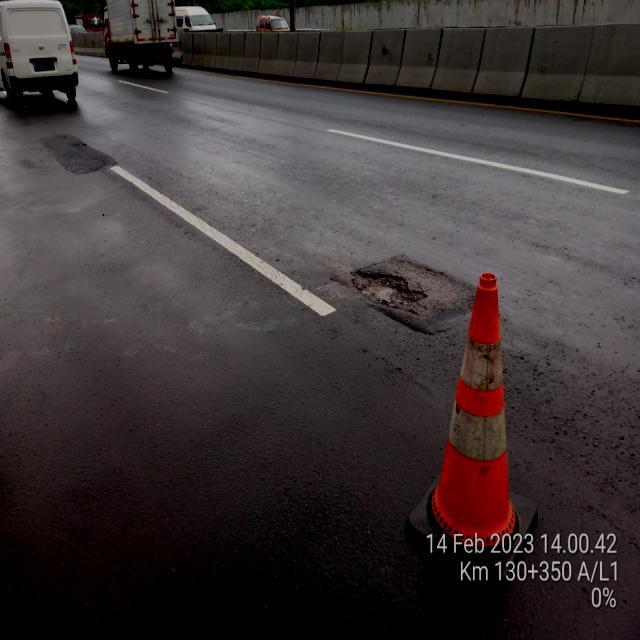Buraco: (348, 267, 431, 316)
